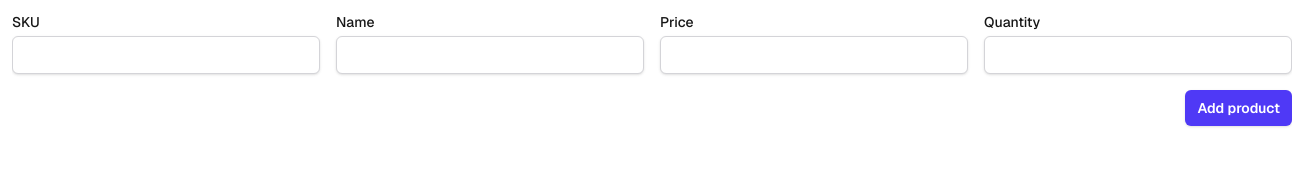
Test case: ProductForm › clears the form after a successful create
Type "MS-002" into the field labelled "SKU" at [166, 55], box [12,36,320,74]
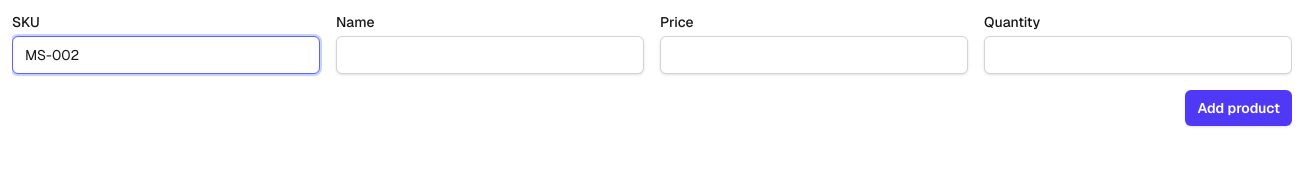
Type "Mouse" into the field labelled "Name" at [490, 55], box [336,36,644,74]
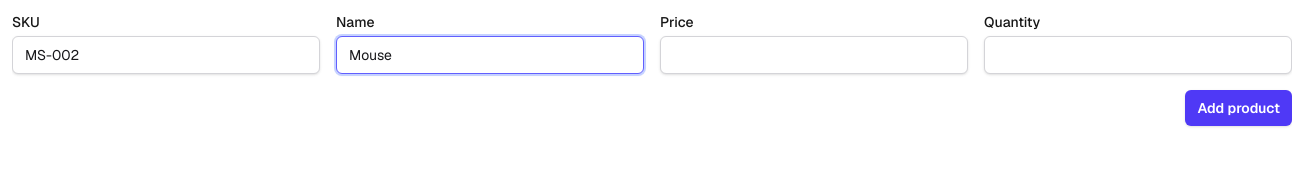
Type "25" into the number field labelled "Price" at [814, 55], box [660,36,968,74]
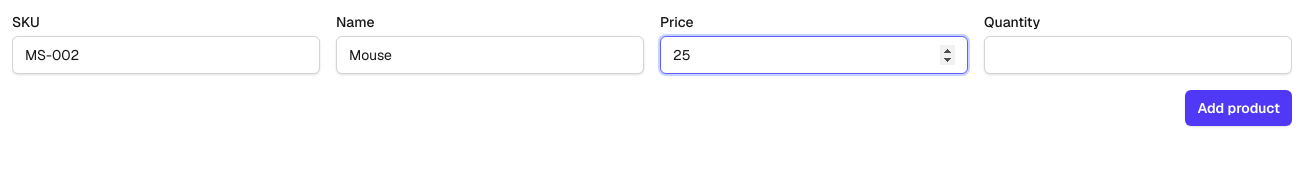
Type "10" into the number field labelled "Quantity" at [1138, 55], box [984,36,1292,74]
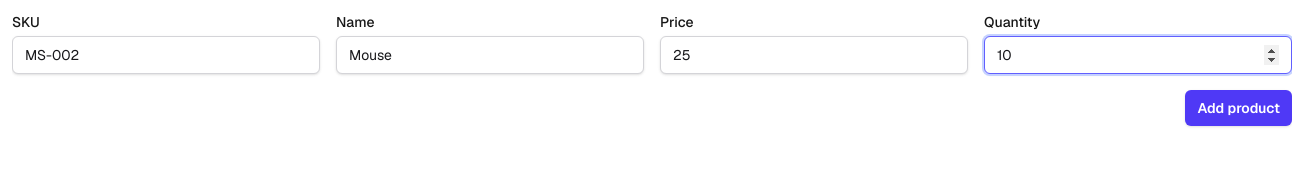
Click the button "Add product" at [1239, 108], box [1186,90,1292,126]
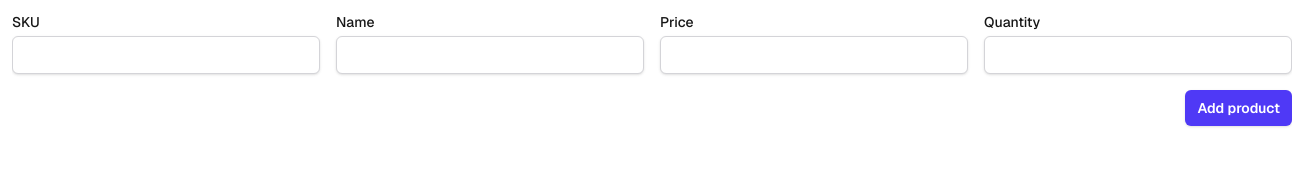
Expected: the field labelled "SKU" is empty, [12,36,320,74]
Expected: the field labelled "Name" is empty, [336,36,644,74]
Expected: the number field labelled "Price" is not empty, [660,36,968,74]
